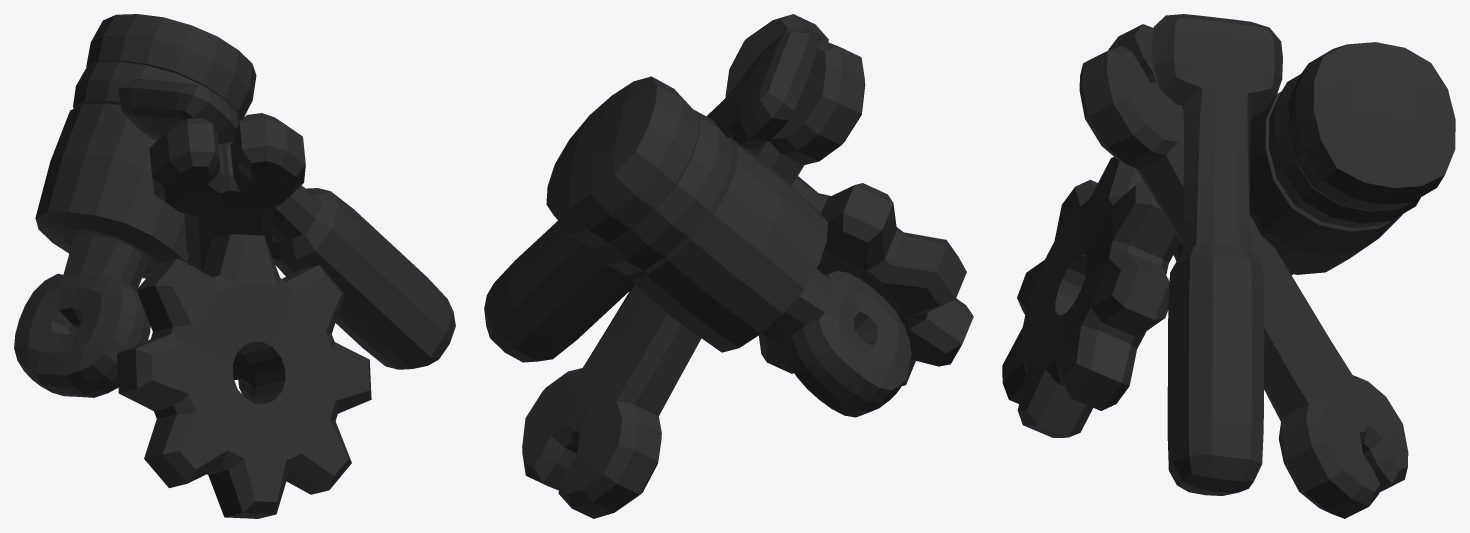
The model's file is General_Upgrade_Inverted.fbx.
3 renders of one model, left to right at view 1: azimuth 30°, elevation 25°; view 2: azimuth 150°, elevation 25°; view 3: azimuth 270°, elevation 25°, orthographic. The views are drawn at different scales.
Visible parts, largest first — view 1: Cog1_INV, Piston1_INV, Screwdriver1_INV, Wrench1_INV; view 2: Piston1_INV, Wrench1_INV, Screwdriver1_INV, Cog1_INV; view 3: Screwdriver1_INV, Piston1_INV, Wrench1_INV, Cog1_INV.
Part boxes in pixels (x1,y1,x2,y2): Cog1_INV: [117, 234, 371, 518]; Piston1_INV: [14, 14, 256, 397]; Screwdriver1_INV: [118, 79, 455, 369]; Wrench1_INV: [149, 113, 305, 400]; Piston1_INV: [546, 76, 911, 417]; Wrench1_INV: [522, 14, 865, 518]; Screwdriver1_INV: [484, 32, 816, 362]; Cog1_INV: [759, 176, 973, 385]; Screwdriver1_INV: [1152, 14, 1282, 495]; Piston1_INV: [1173, 42, 1455, 275]; Wrench1_INV: [1079, 24, 1408, 518]; Cog1_INV: [1002, 157, 1180, 437].
Size of the model in its own units: 795 by 852 by 829.
